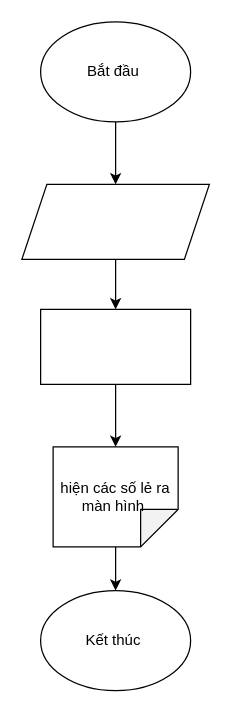
Image size: 231x713. Some labels were removed from this diagram. Each missing label, with the box of its shape:
Nhập số nguyên a và b: (21, 183, 209, 259)
tìm các số trong khoảng a đến b mà không chia hết cho 2: (39, 308, 191, 384)
